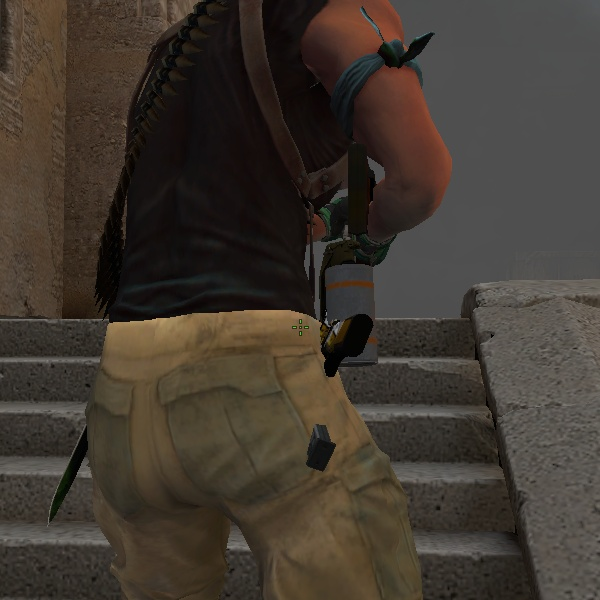t_body: (49, 1, 483, 600)
